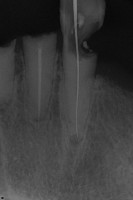Furcation Involvement: (0, 98, 13, 115), (69, 134, 83, 147)
